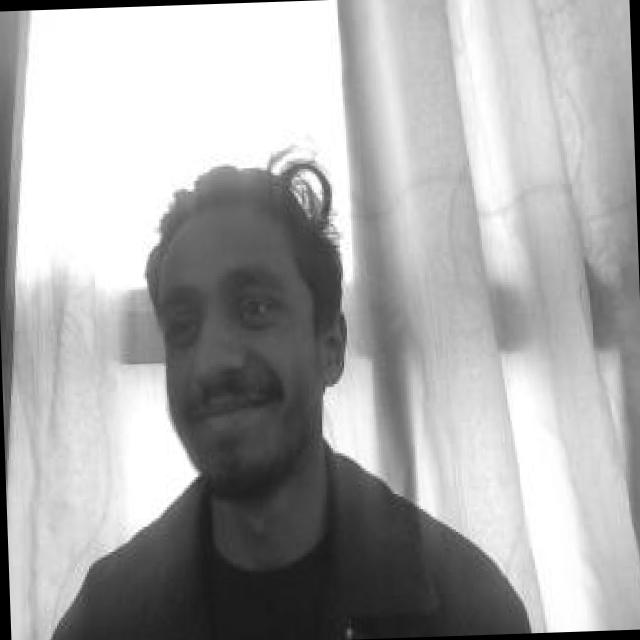Focused: (148, 211, 322, 488)
